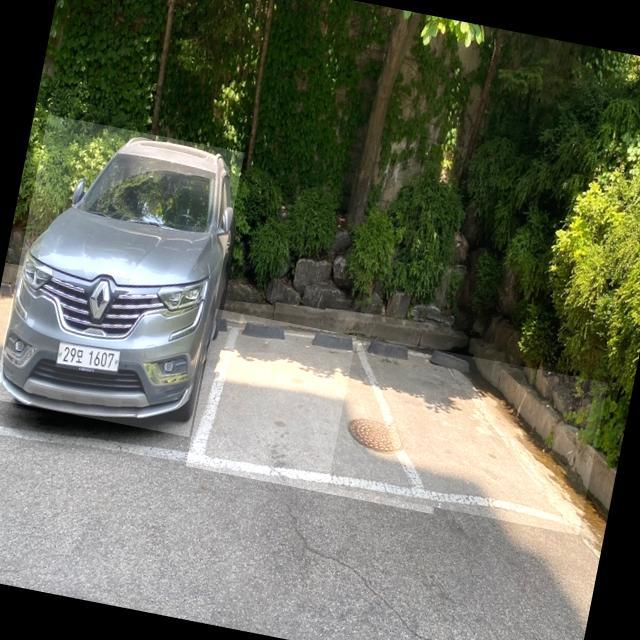empty: (186, 323, 436, 502), (356, 344, 580, 528)
occupied: (0, 114, 244, 437)
